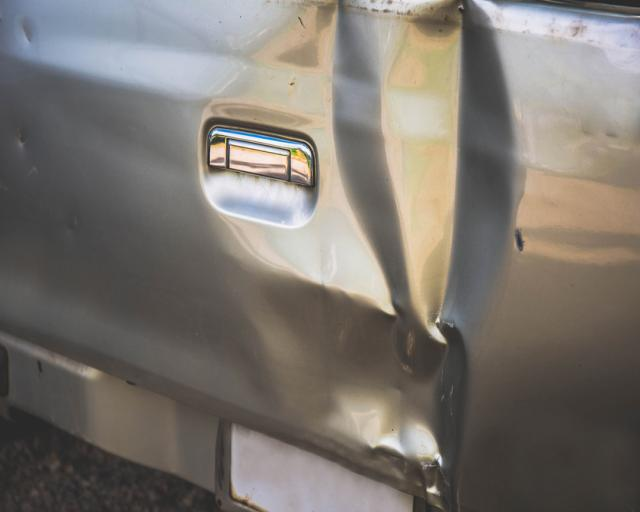dent: (208, 0, 522, 512), (13, 14, 39, 51), (15, 131, 31, 151)
